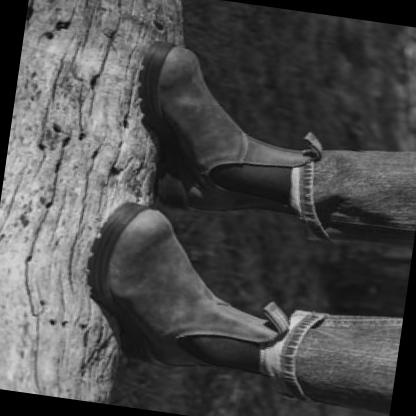ankle: (199, 345, 212, 355), (238, 181, 249, 188)
heel: (136, 354, 147, 360), (173, 200, 182, 207)
left_foot: (73, 199, 285, 379)
pinky: (116, 247, 129, 255), (185, 57, 195, 64)
right_foot: (121, 40, 318, 225)
toe: (163, 74, 172, 81), (154, 217, 164, 223)
